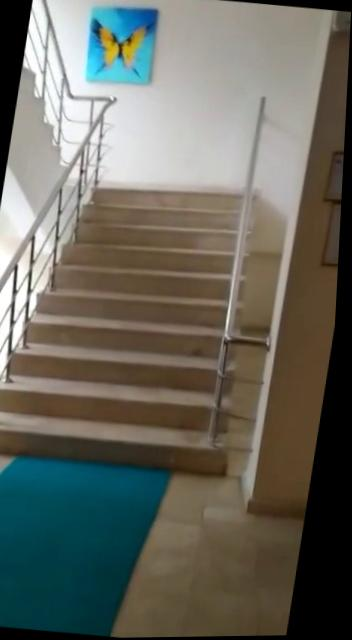Bench: (0, 154, 285, 484)
